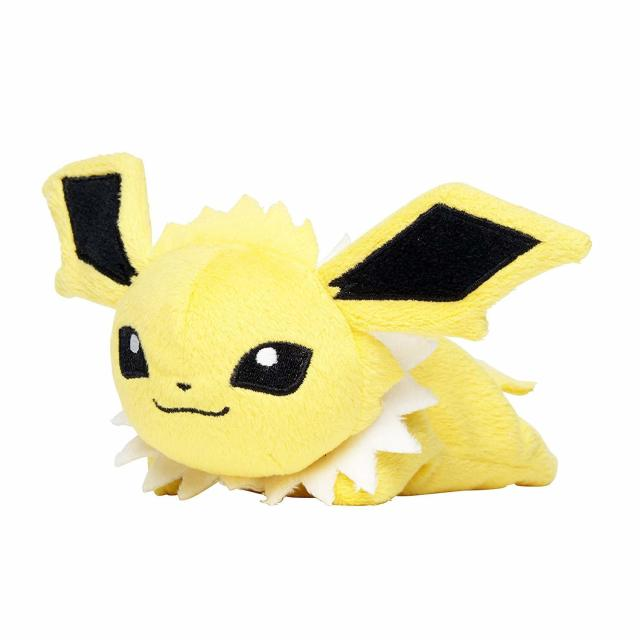Jolteon: (50, 164, 550, 507)
